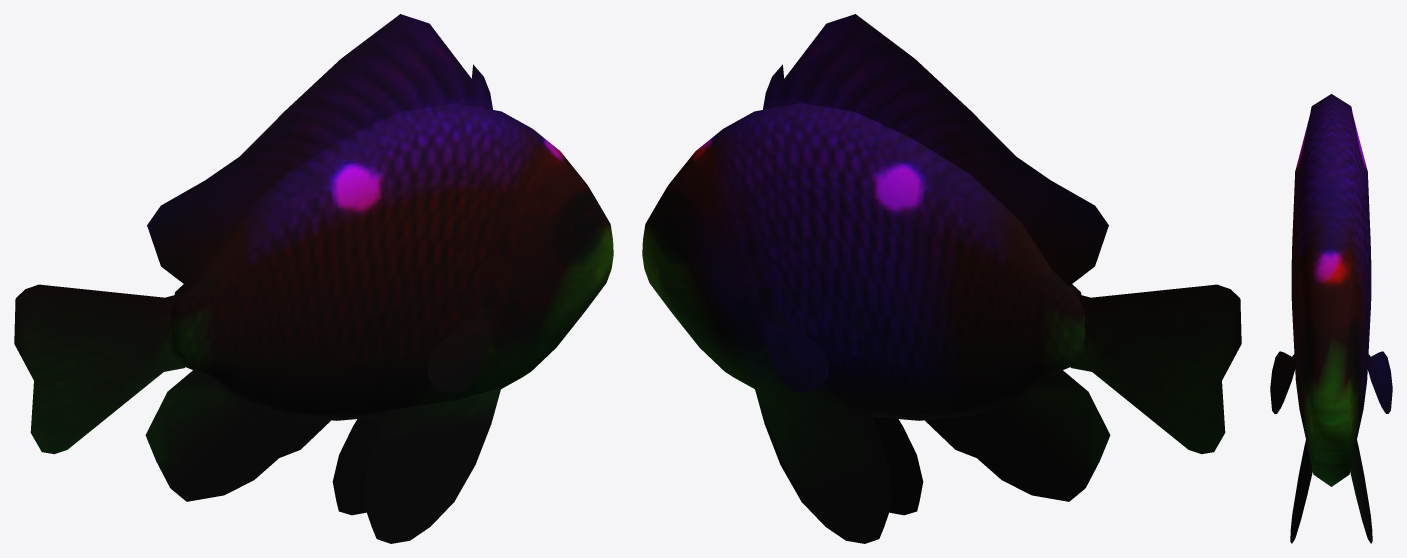
File: domino_damselfish.glb
3 views of the same model, side by side, from view 1: azimuth 30°, elevation 25°; view 2: azimuth 150°, elevation 25°; view 3: azimuth 270°, elevation 25° (orthographic). The views are drawn at different scales.
Parts seen in each view (by area): view 1: DominoDamselfish; view 2: DominoDamselfish; view 3: DominoDamselfish.
Boxes of the visible parts, x1,y1,x2,y2 form: DominoDamselfish: (14, 14, 613, 543); DominoDamselfish: (642, 14, 1241, 543); DominoDamselfish: (1270, 94, 1392, 543).
Bounding box in the file's own units: 1 × 0.8164 × 0.1703.
Materials: 1 (1 with a texture image).
